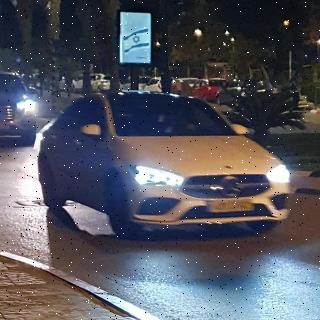LicensePlate: (211, 199, 252, 212)
